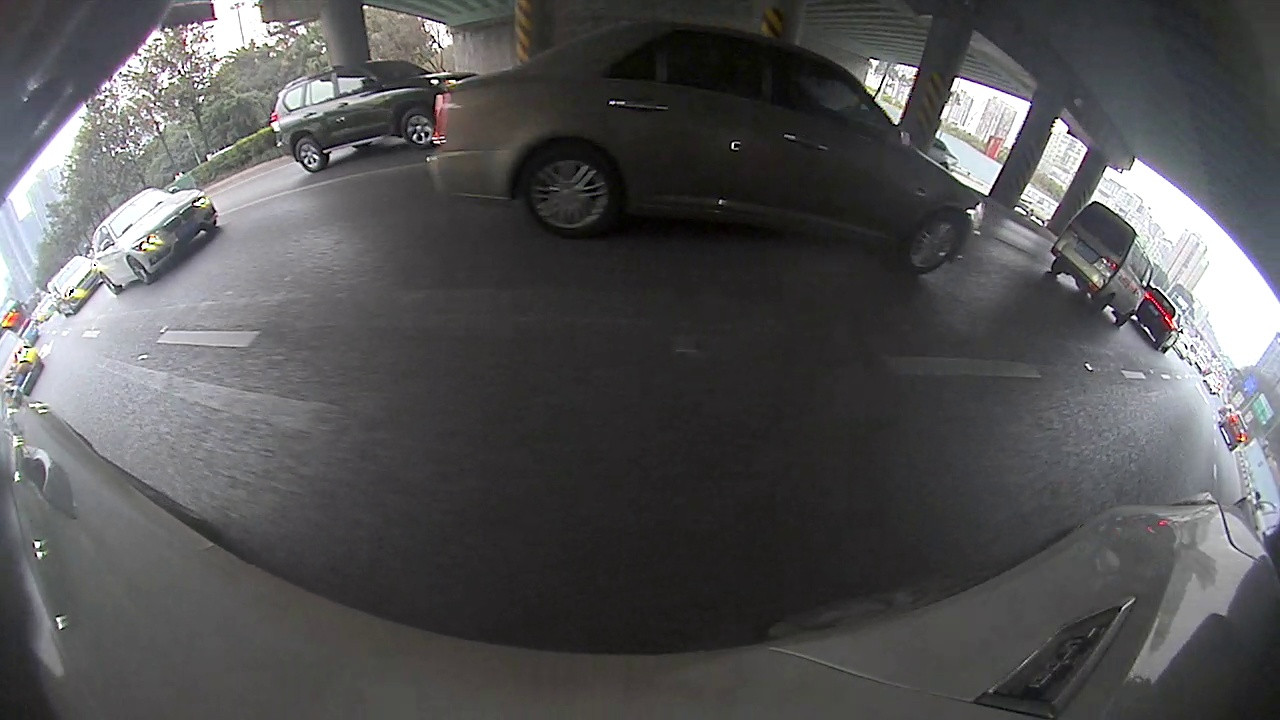car: (423, 20, 987, 280), (267, 61, 475, 173), (89, 185, 219, 295), (1049, 200, 1156, 328), (46, 255, 103, 317), (1139, 283, 1186, 353), (2, 327, 46, 397)
front: (899, 213, 966, 277), (400, 109, 438, 149), (128, 255, 154, 287)
rear: (524, 142, 623, 241), (293, 136, 328, 174)
